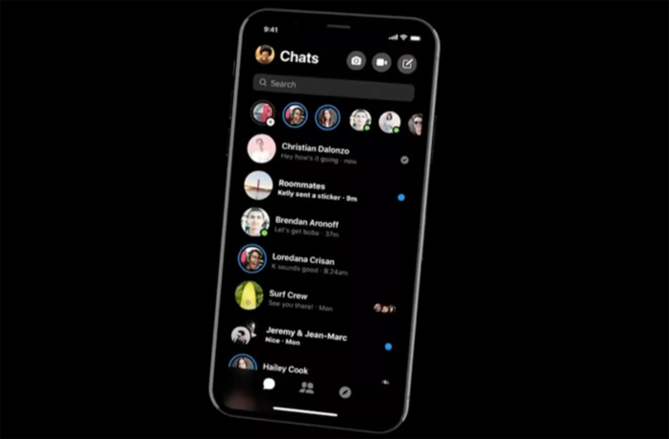Phone: (206, 5, 445, 439)
